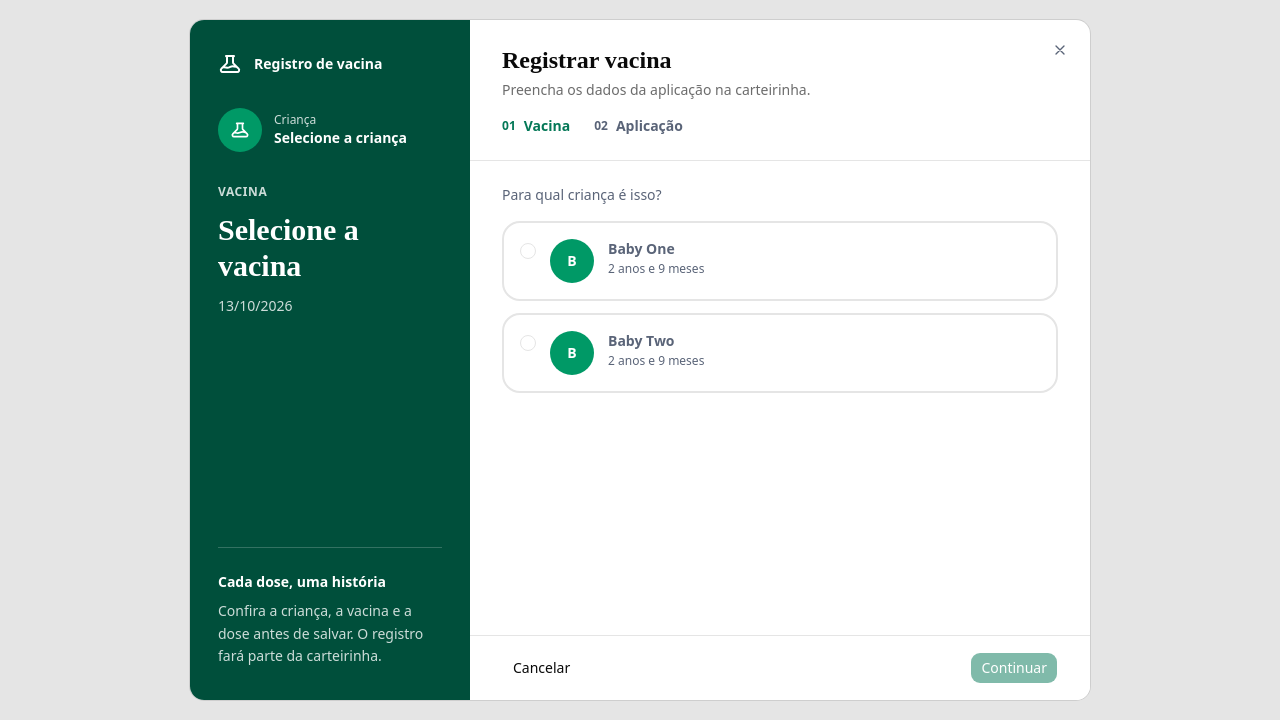
Test: RegisterVaccineDialog › shows a baby picker first when the household has more than one child, and gates progress on a choice
The image size is (1280, 720).
Expected: the text "Baby One" is shown, [608, 239, 675, 258]
Expected: the button "Continuar" is disabled, [970, 652, 1058, 684]
Click the text "Baby Two" at (641, 340), box [608, 331, 674, 350]
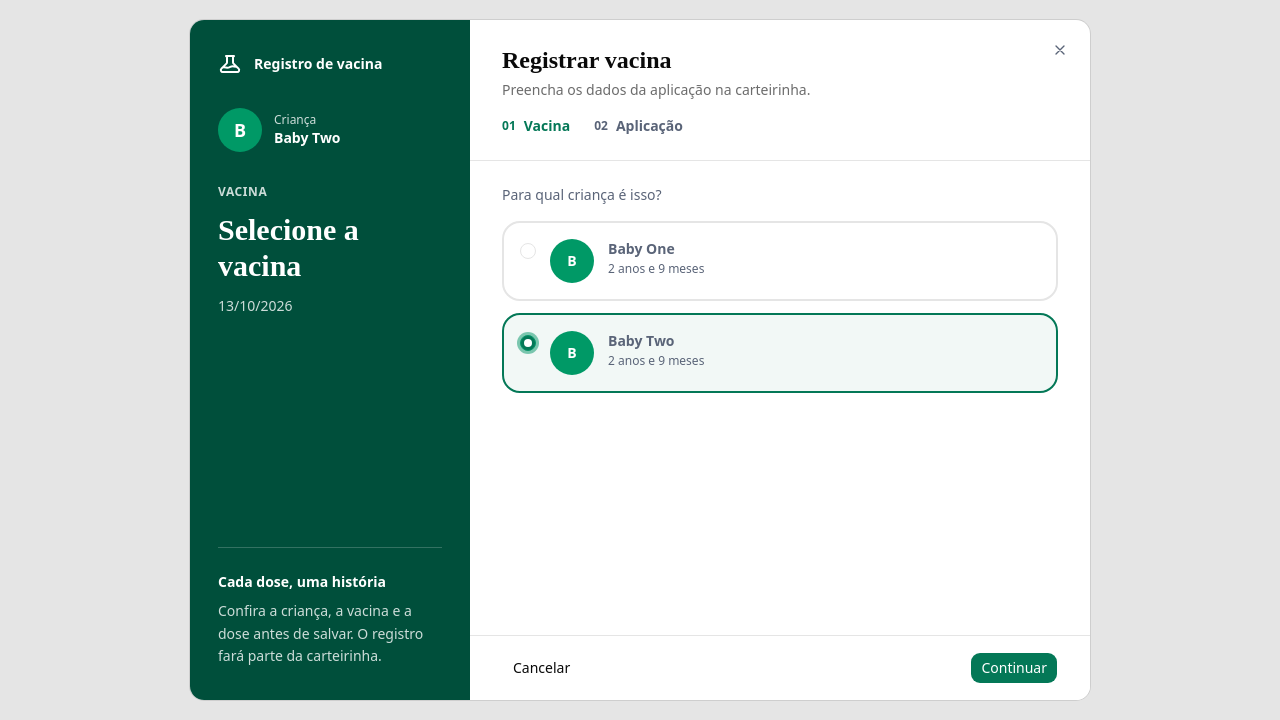
Now the button "Continuar" is enabled
Click the button "Continuar" at (1014, 668), box [970, 652, 1058, 684]
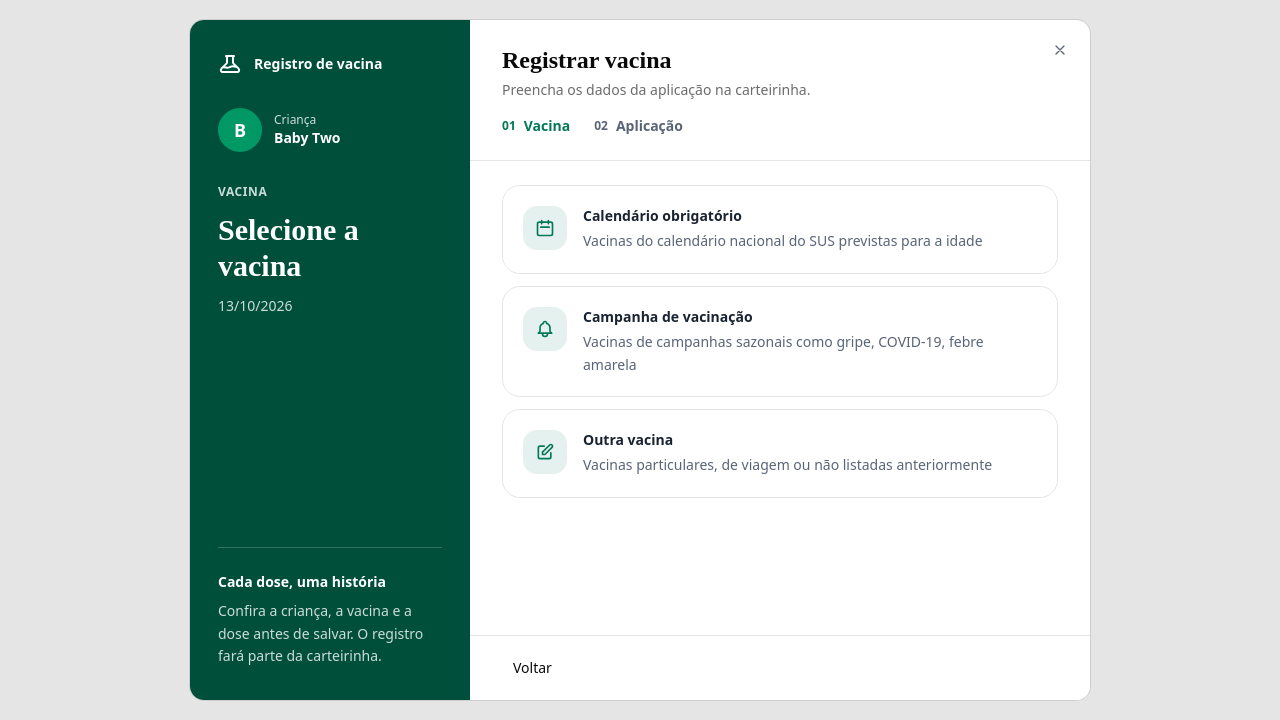
Now the text "Calendário obrigatório" is shown, box [583, 206, 742, 225]
